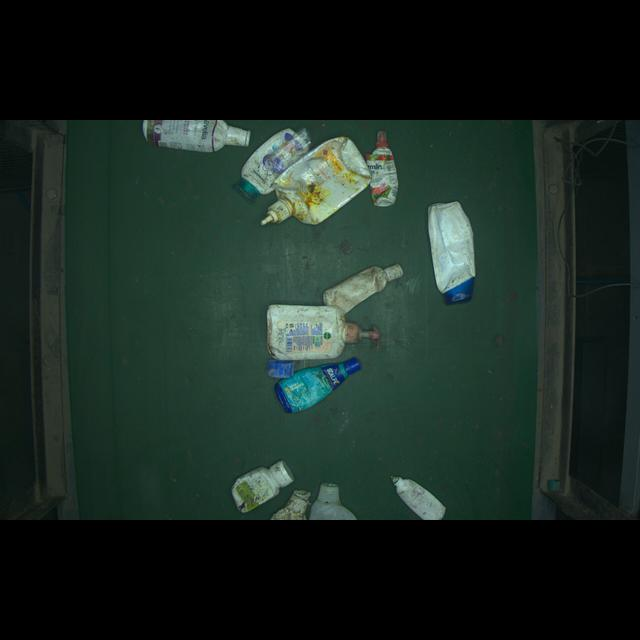mix PET: (258, 295, 388, 360), (418, 197, 488, 310), (316, 252, 415, 312), (228, 457, 293, 513), (264, 360, 299, 380)
